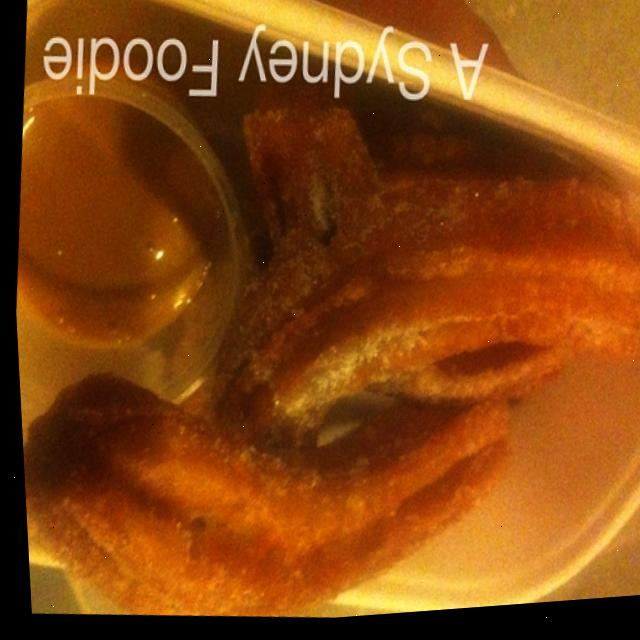炸货点心: (3, 47, 640, 640)
